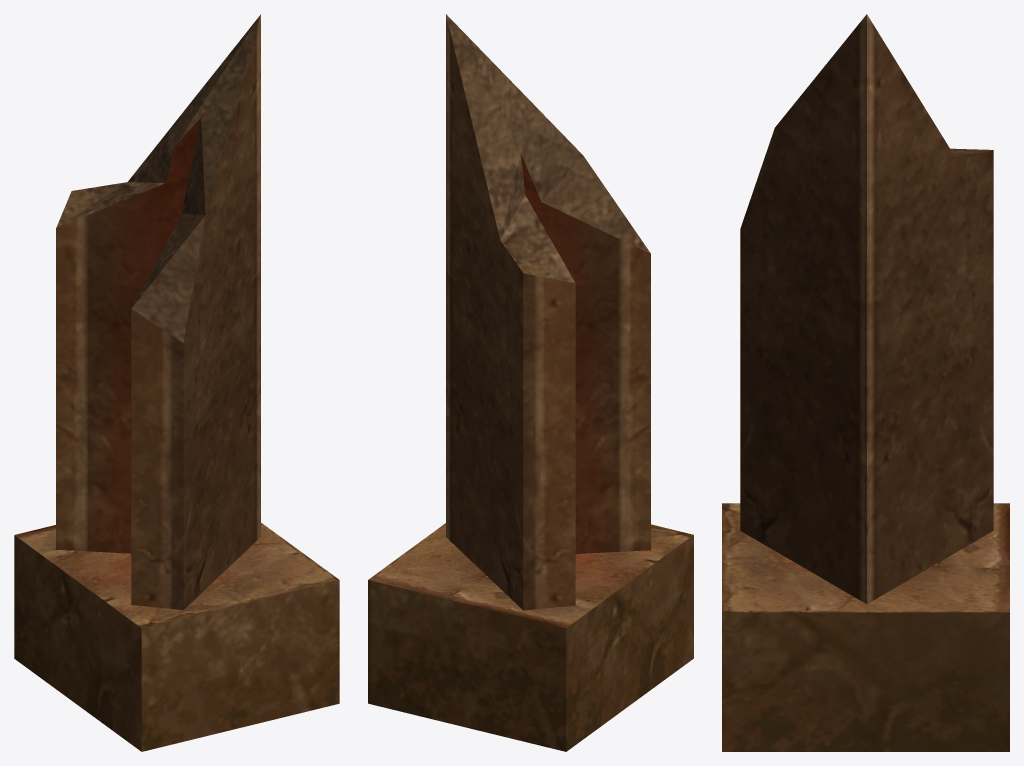
The model's file is Scene_shizhu_001.FBX.
3 views of the same model, side by side, from view 1: azimuth 30°, elevation 25°; view 2: azimuth 150°, elevation 25°; view 3: azimuth 270°, elevation 25° (orthographic). The views are drawn at different scales.
Parts seen in each view (by area): view 1: Scene_shizhu_001; view 2: Scene_shizhu_001; view 3: Scene_shizhu_001.
Part boxes in pixels (box(x1,y1,x2,y2)): Scene_shizhu_001: box(14, 14, 339, 751); Scene_shizhu_001: box(368, 14, 693, 751); Scene_shizhu_001: box(722, 14, 1009, 751).
Bounding box in the file's own units: 1.83 × 5.7 × 2.04.
